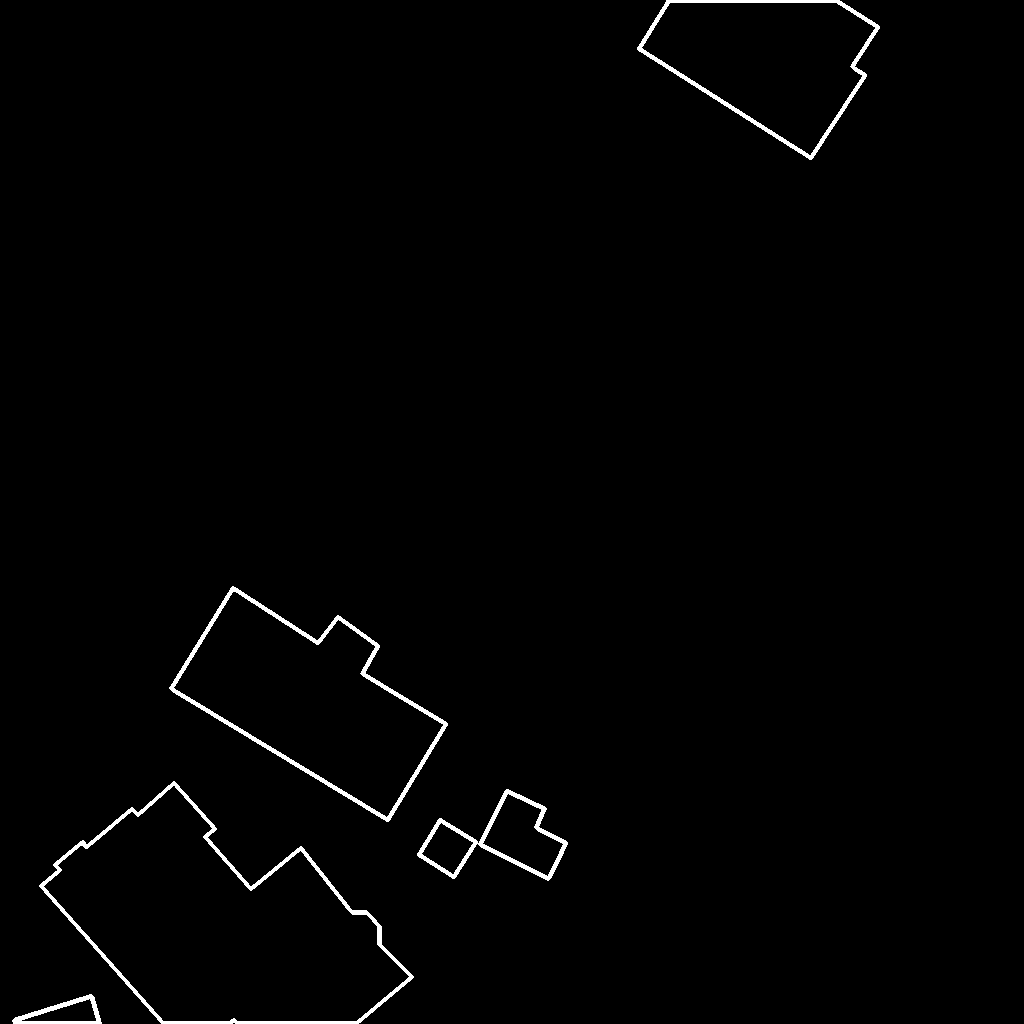building: (41, 783, 413, 1024), (171, 588, 447, 821), (639, 0, 879, 159), (480, 791, 567, 880), (419, 820, 477, 878), (14, 996, 101, 1024)
